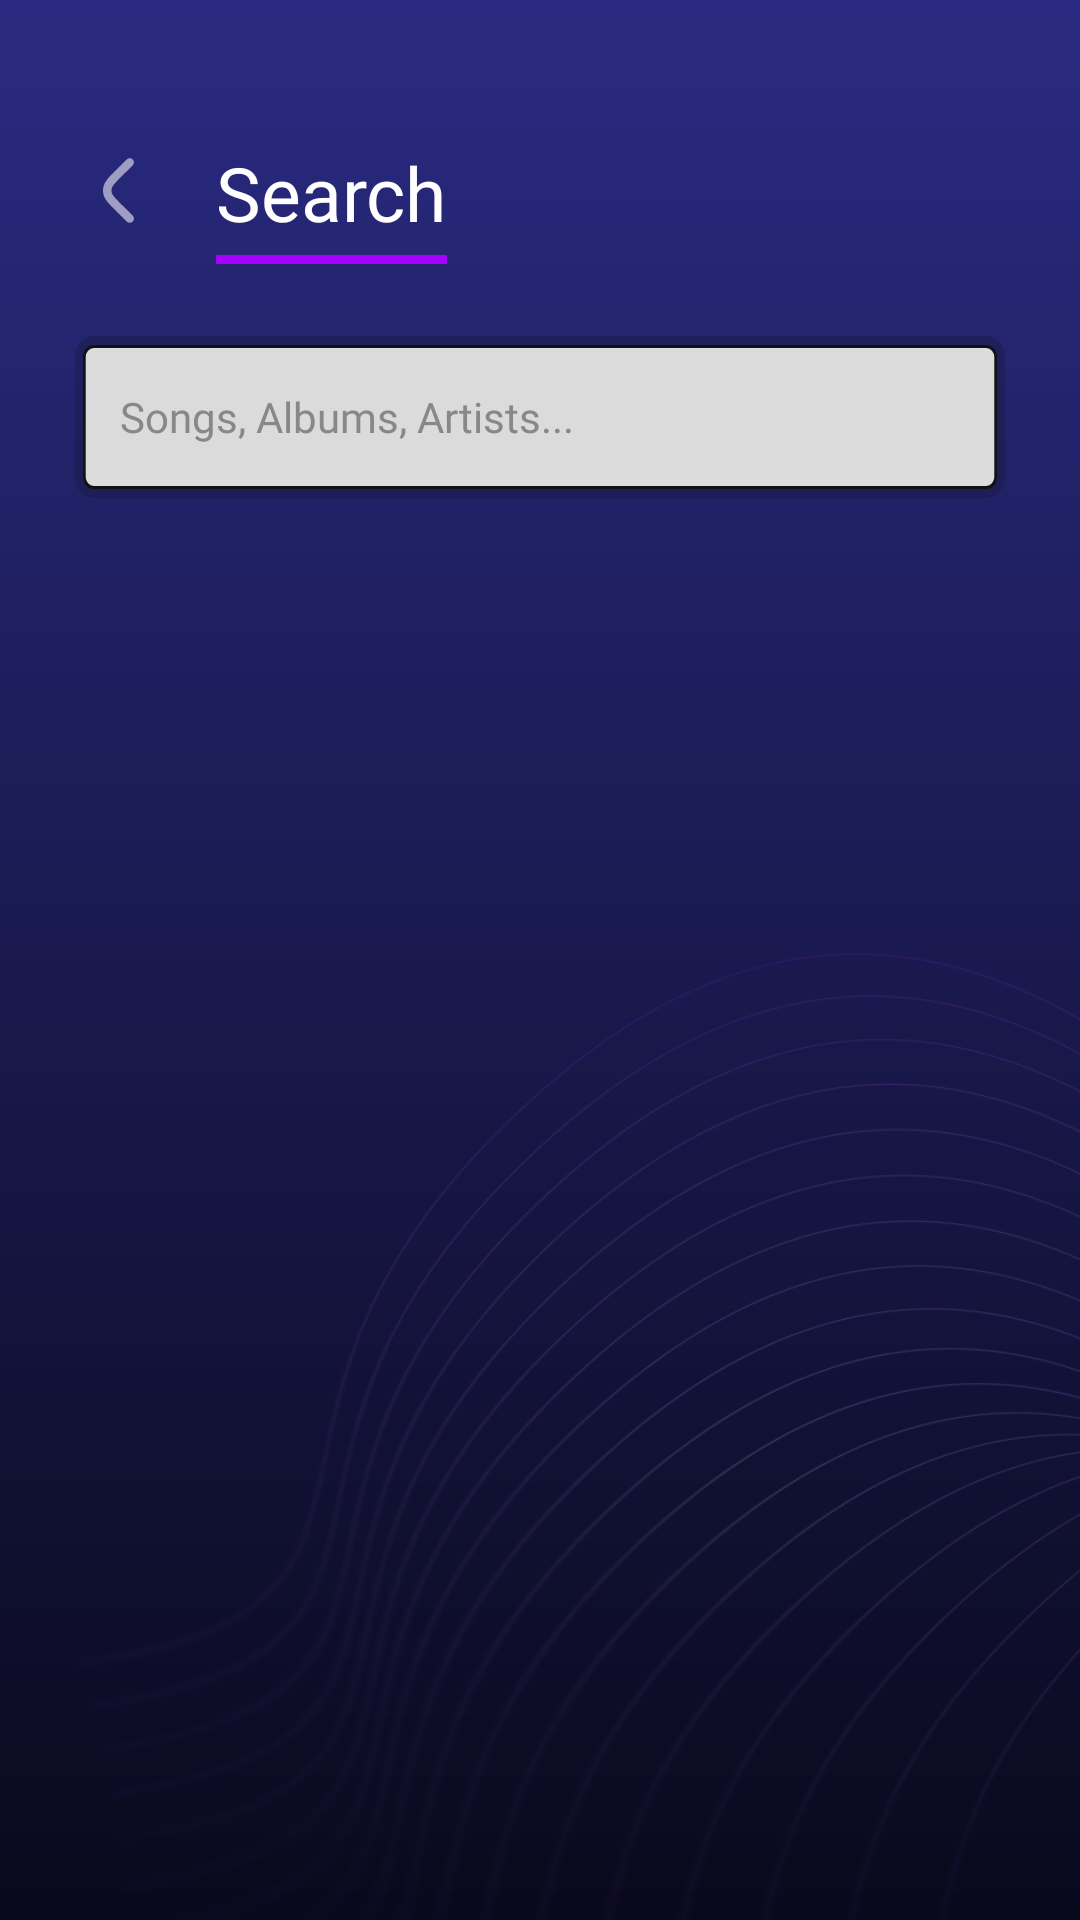

Screen size 1080×1920. Icon name, then its box in pixels as bbox=(x1, y1, x2, y2):
back: bbox=(103, 158, 134, 223)
